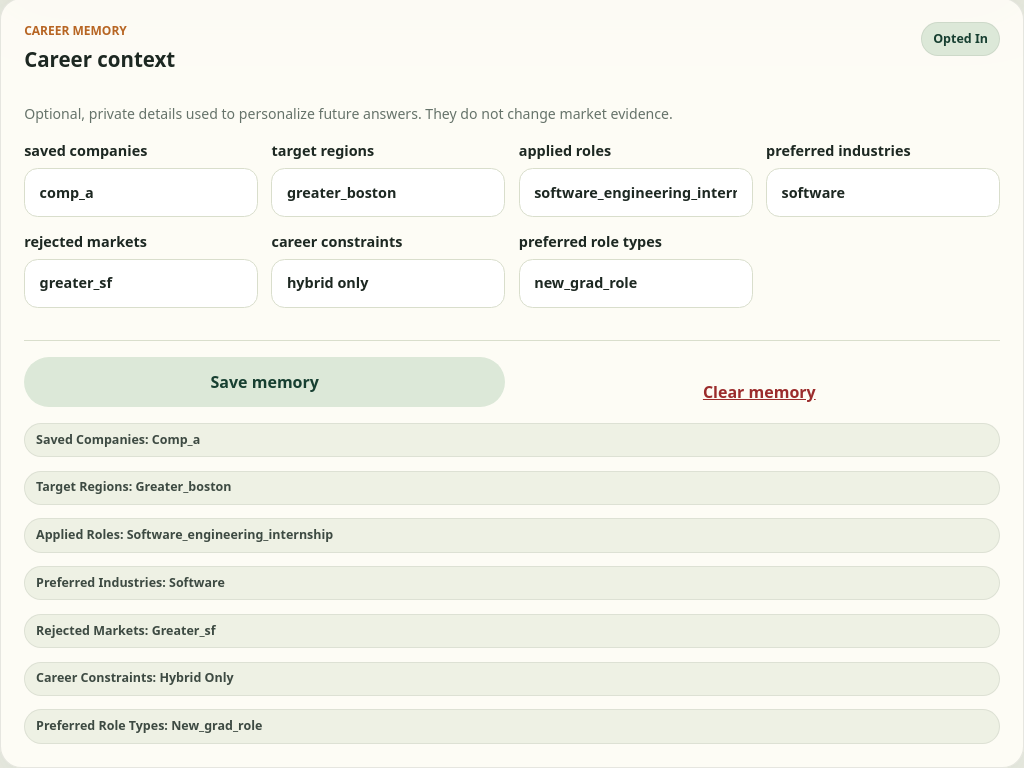
it: CareerAgentPage › memory controls render opted-in categories and clear memory through protected API
(page scrolled)
Expected: the text "Opted in" is shown, [921,22,1000,56]
Expected: the field showing "comp_a" is shown, [24,168,258,217]
Click the button "Clear memory". click: [759, 392]
box: [519,377,1000,407]
(page scrolled)
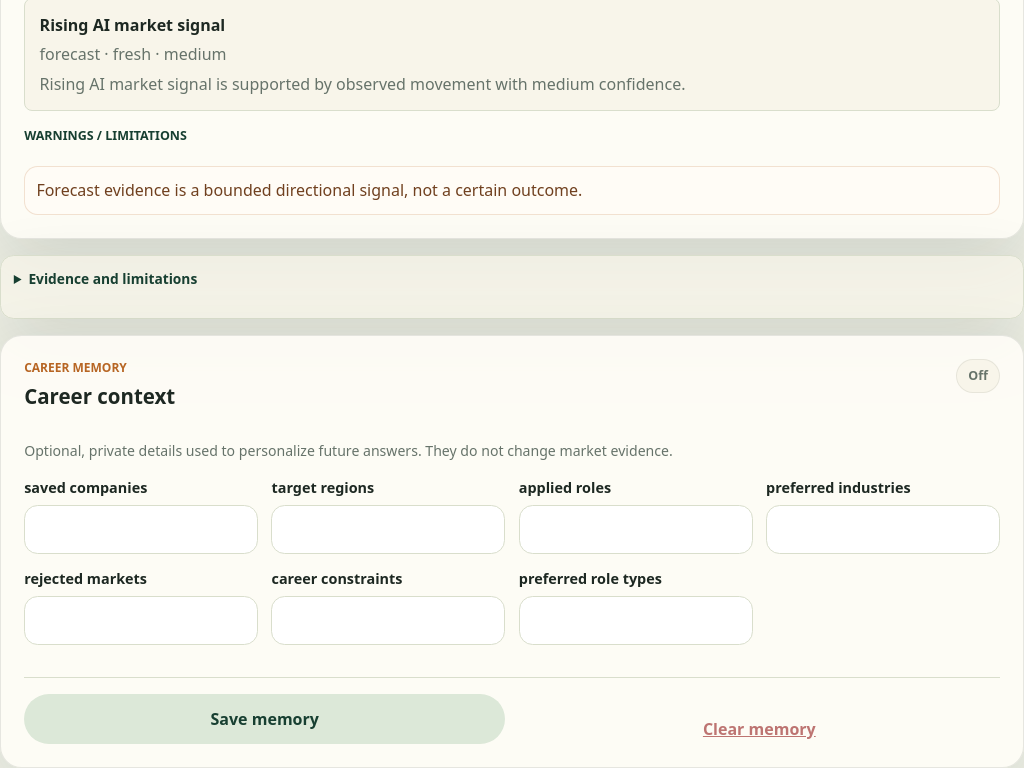
Now the text "Off" is shown, box [956,359,1000,393]
